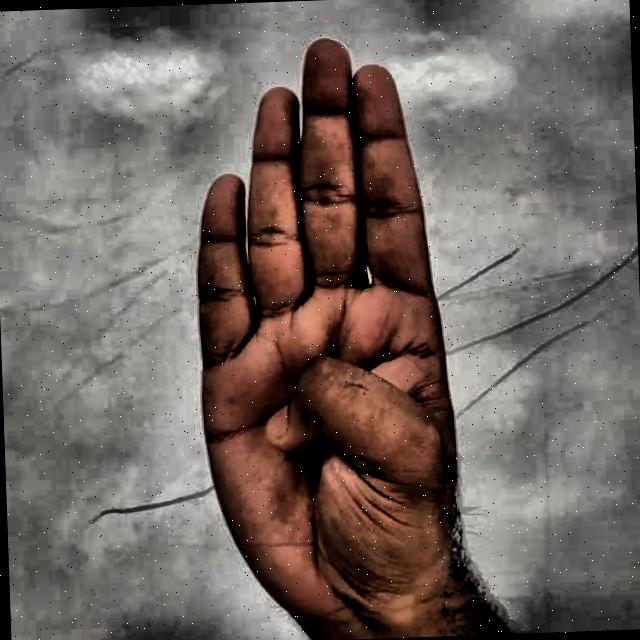Ba: (146, 12, 514, 639)
